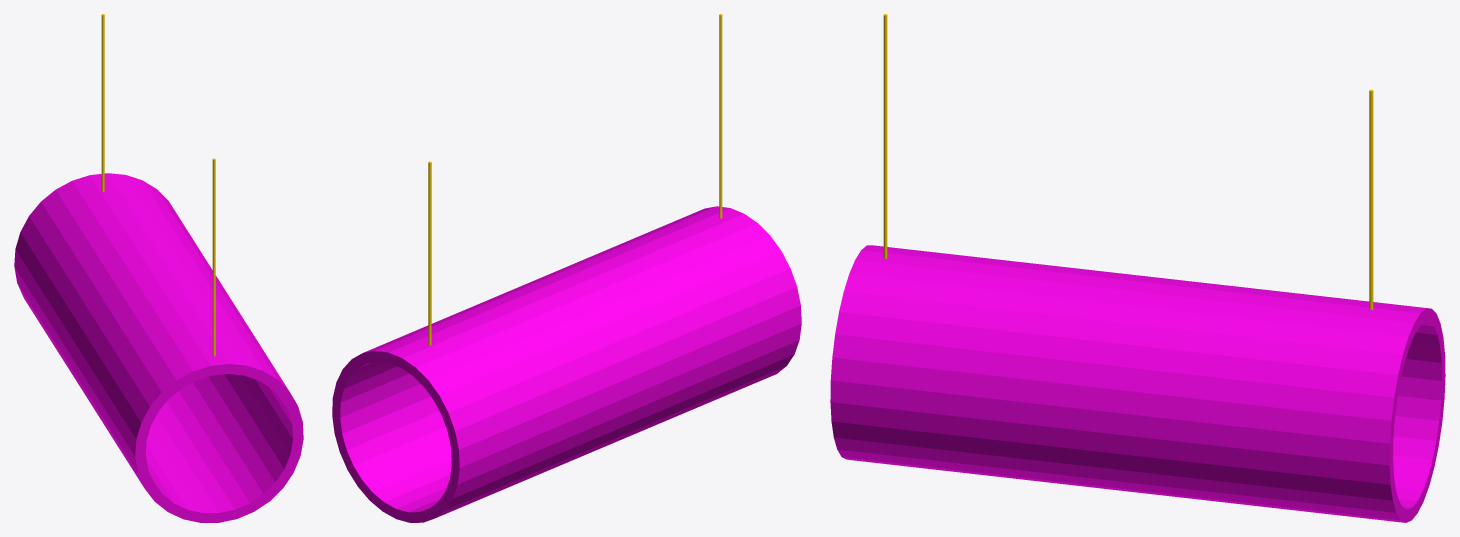
Rendered from Statue08.fbx.
3 views of the same model, side by side, from view 1: azimuth 30°, elevation 25°; view 2: azimuth 150°, elevation 25°; view 3: azimuth 270°, elevation 25° (orthographic). The views are drawn at different scales.
Visible parts, largest first — view 1: pink Mesh (1), yellow Mesh (1); view 2: pink Mesh (1), yellow Mesh (1); view 3: pink Mesh (1), yellow Mesh (1).
Boxes of the visible parts, box(x1,y1,x2,y2) form: pink Mesh (1): box(14, 173, 303, 522); yellow Mesh (1): box(101, 14, 215, 356); pink Mesh (1): box(332, 206, 801, 522); yellow Mesh (1): box(428, 14, 722, 345); pink Mesh (1): box(830, 245, 1445, 522); yellow Mesh (1): box(883, 14, 1373, 310).
Bounding box in the file's own units: 6.64 × 8.97 × 11.39.
